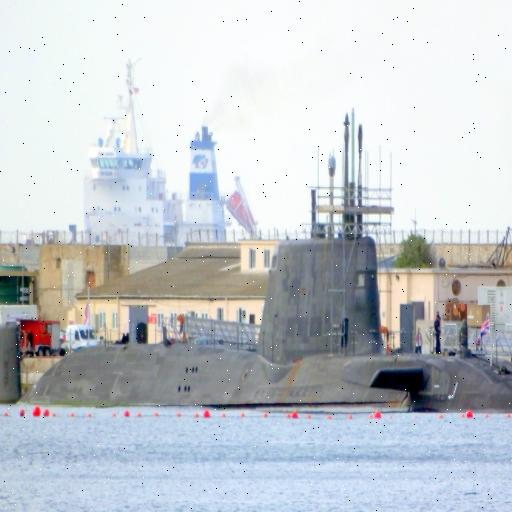submarine: (26, 227, 512, 418)
